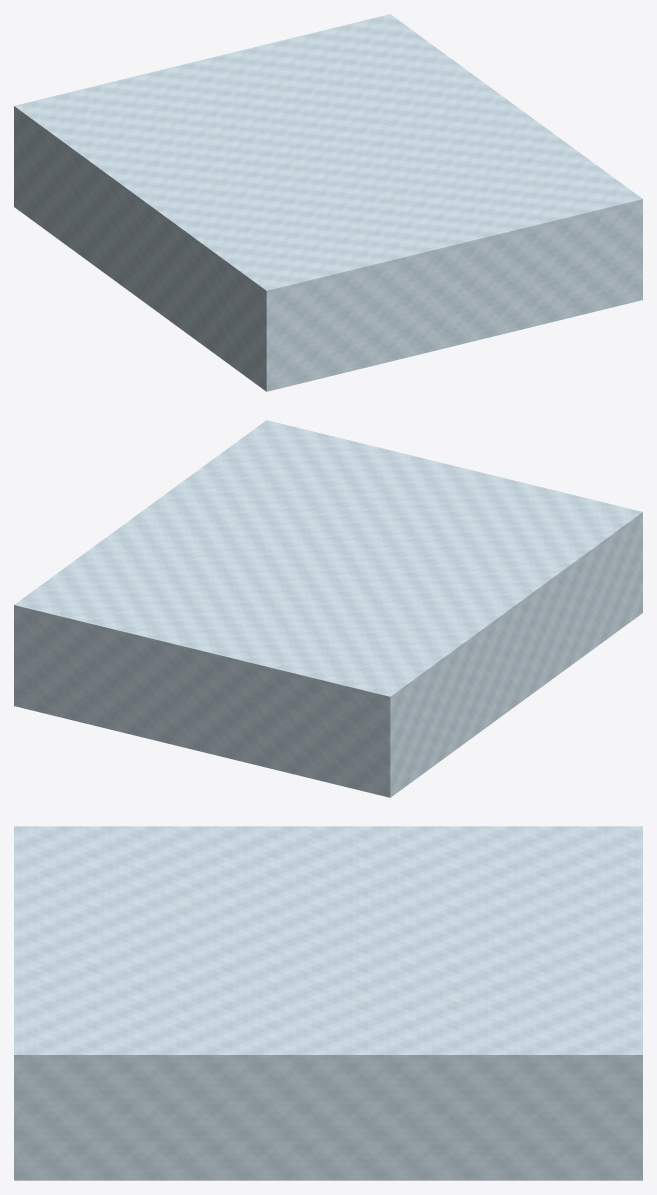
File: SnowCanyon_Floor.fbx
3 views of the same model, one above another, from view 1: azimuth 30°, elevation 25°; view 2: azimuth 150°, elevation 25°; view 3: azimuth 270°, elevation 25° (orthographic). The views are drawn at different scales.
Parts seen in each view (by area): view 1: WO_SnowCanyon_Floor_LOD0; view 2: WO_SnowCanyon_Floor_LOD0; view 3: WO_SnowCanyon_Floor_LOD0.
Part boxes in pixels (<box>): WO_SnowCanyon_Floor_LOD0: <box>14,14,642,391</box>; WO_SnowCanyon_Floor_LOD0: <box>14,420,642,797</box>; WO_SnowCanyon_Floor_LOD0: <box>14,826,642,1180</box>.
Size of what is drawn, in the model's own units: 6 by 1.54 by 6.98.
